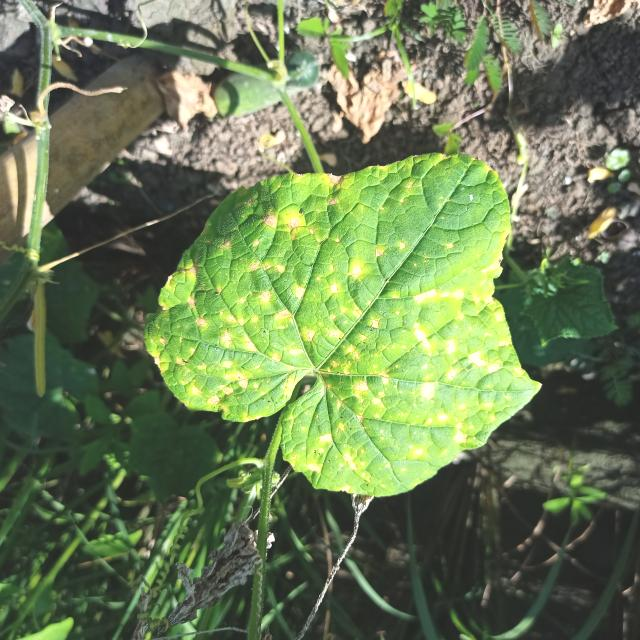disease_cucumber: (156, 181, 524, 490)
